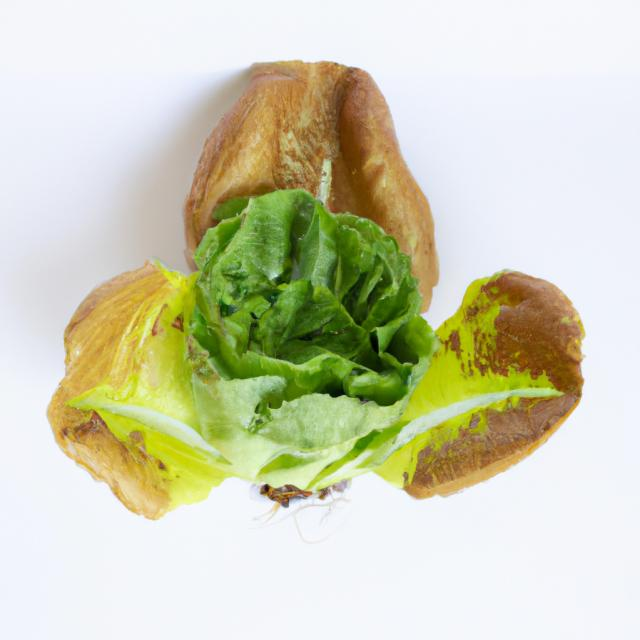-K: (42, 49, 596, 537)
